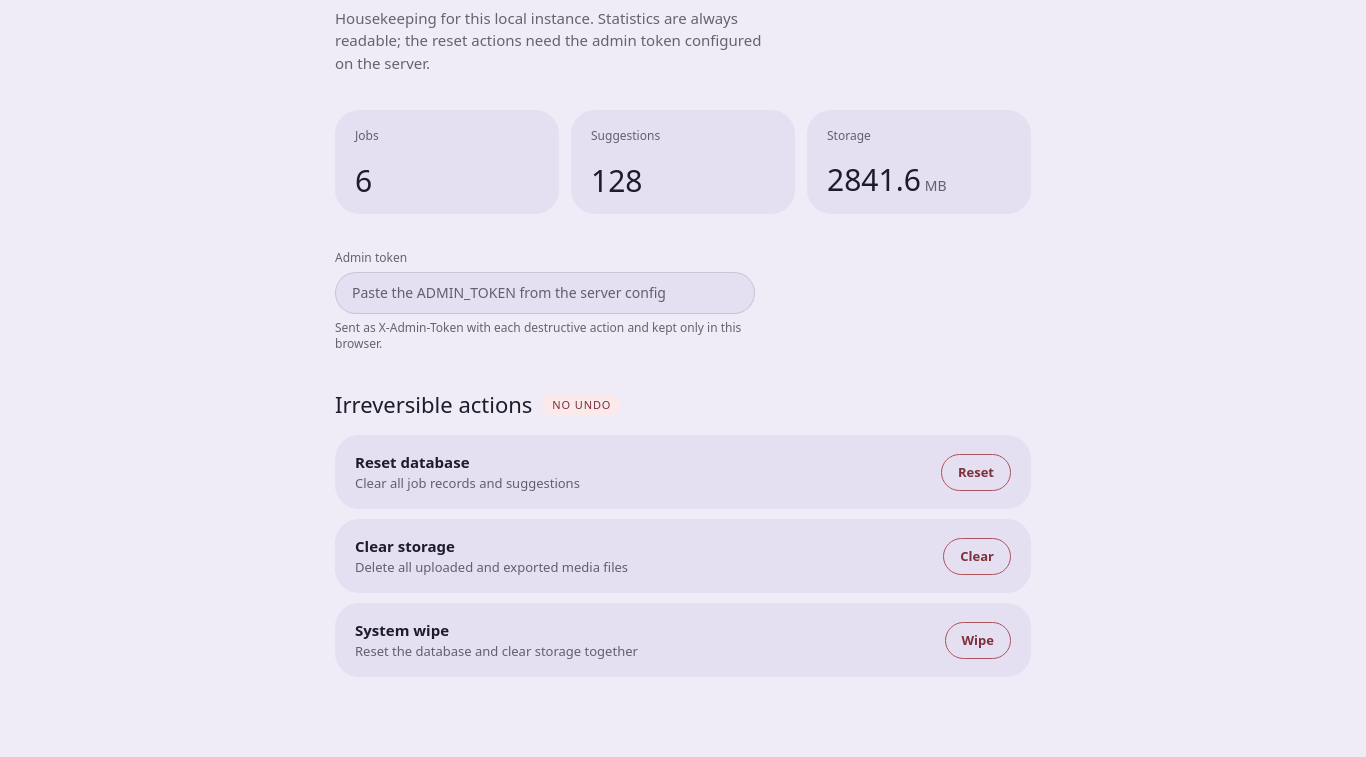
the confirmation › names the action and the consequence
(page scrolled)
Click the button "Wipe". click: (978, 640)
box: [944,622,1011,659]
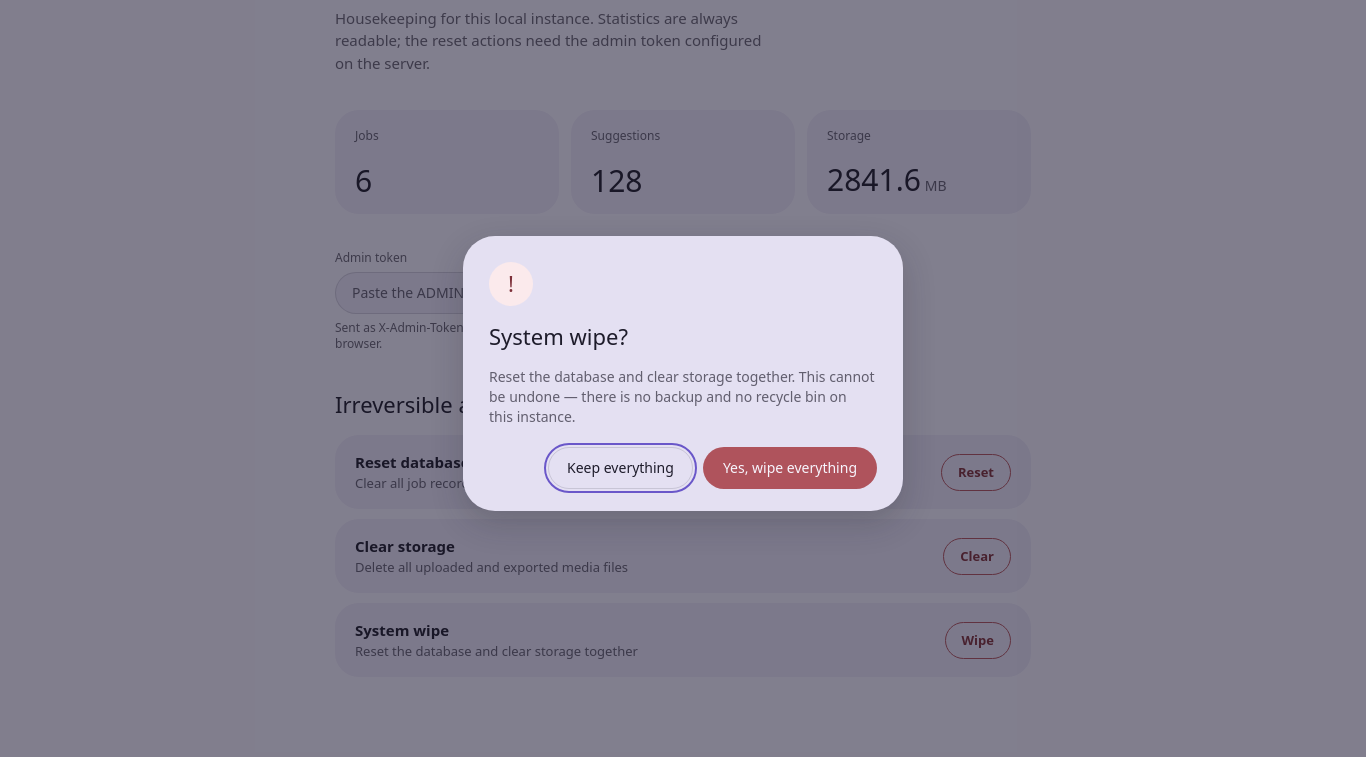
expect the heading "System wipe?" is shown: met, box [489,320,628,350]
expect the text "cannot be undone" is shown: met, box [489,366,875,426]
expect the button "Yes, wipe everything" is shown: met, box [703,446,877,488]
